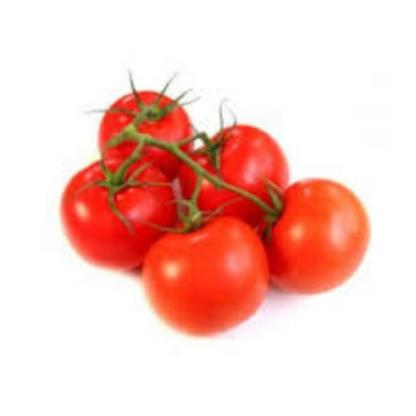tomato: (133, 200, 268, 339), (250, 174, 376, 294), (166, 124, 294, 224), (57, 156, 174, 265), (92, 82, 196, 190)
